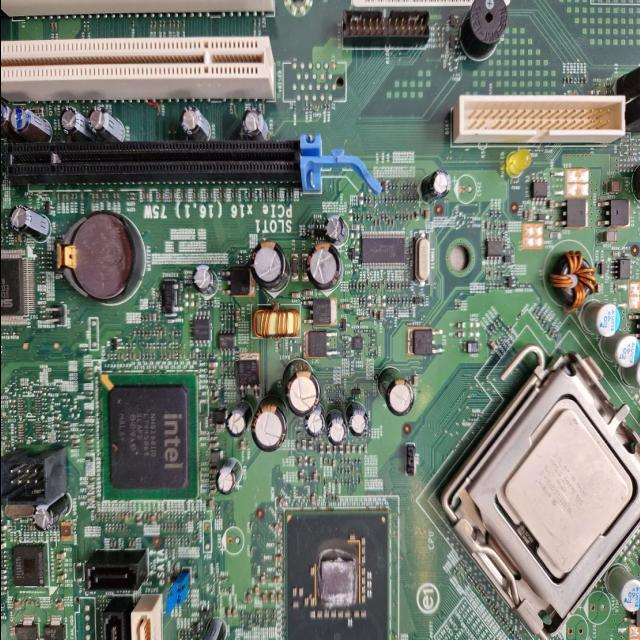A: (547, 252, 595, 312), (253, 304, 299, 339)
C: (282, 360, 319, 414), (250, 398, 286, 452), (250, 240, 288, 290), (304, 243, 342, 289), (377, 367, 412, 415), (9, 106, 51, 142), (31, 492, 67, 531), (10, 204, 48, 238), (87, 107, 123, 141), (179, 105, 209, 140), (420, 170, 450, 202), (214, 459, 242, 493), (59, 106, 86, 140), (225, 402, 251, 436), (190, 264, 217, 296), (242, 109, 268, 139), (345, 403, 367, 437), (325, 411, 345, 445), (323, 215, 346, 244), (304, 404, 324, 436), (0, 100, 8, 134)
